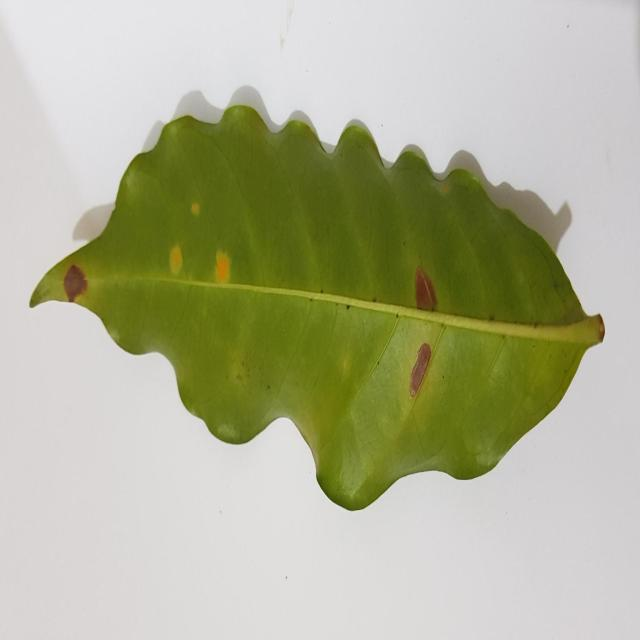miner: (409, 342, 432, 396), (63, 262, 88, 304), (415, 267, 437, 311)
rust: (169, 242, 183, 277), (216, 250, 230, 283), (190, 196, 201, 216)
